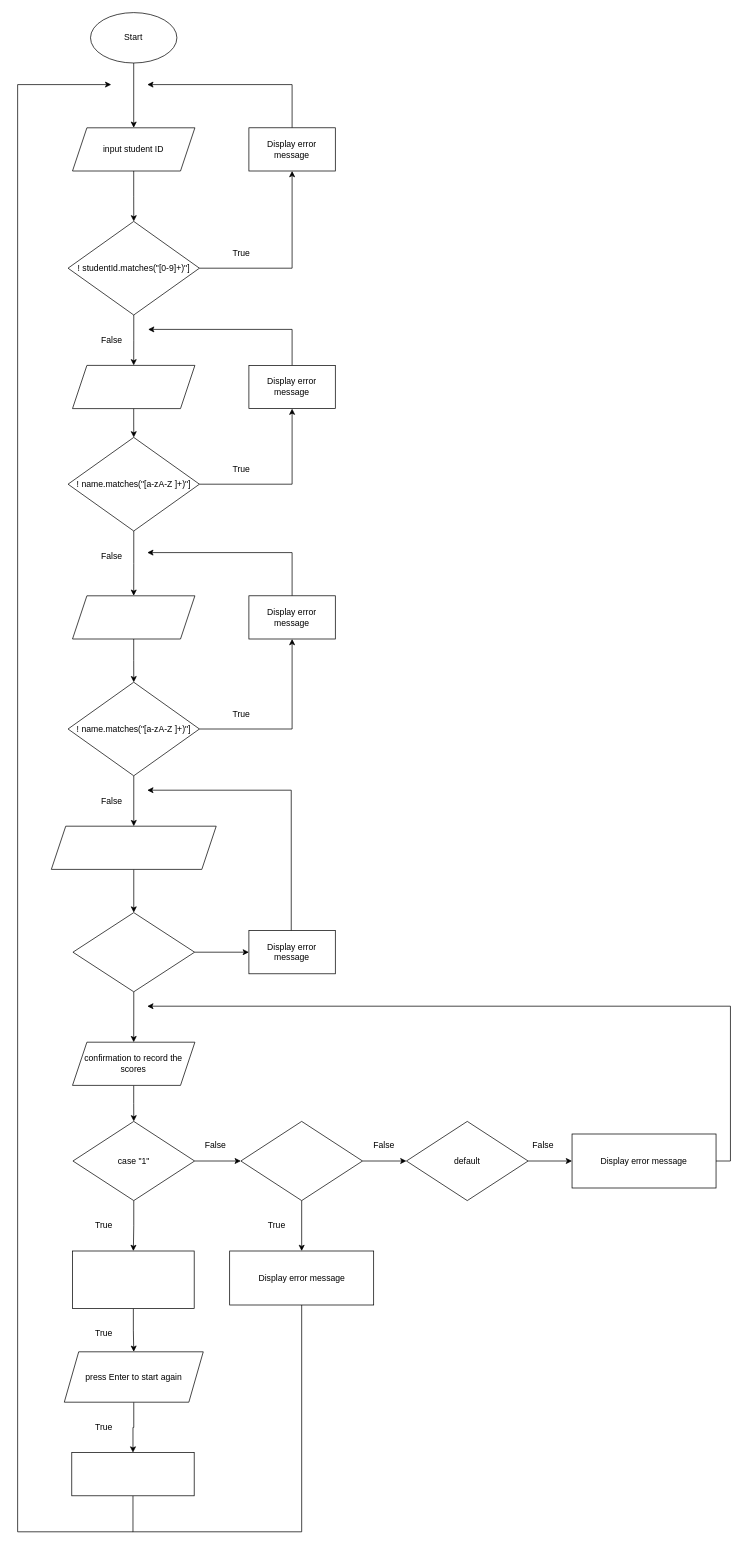
Image size: 749x1550. Some labels were removed from this diagram. Here are the shapes that lost their labels. From the top down, the centre of each, then its label:
point (133, 387): input full name
point (133, 617): input level
point (133, 847): Enter score for subject (i+1)
point (133, 952): score >= 0 && score <= 100
point (301, 1161): case "2"
point (133, 1279): Print personal details and score details
point (132, 1474): clear data
